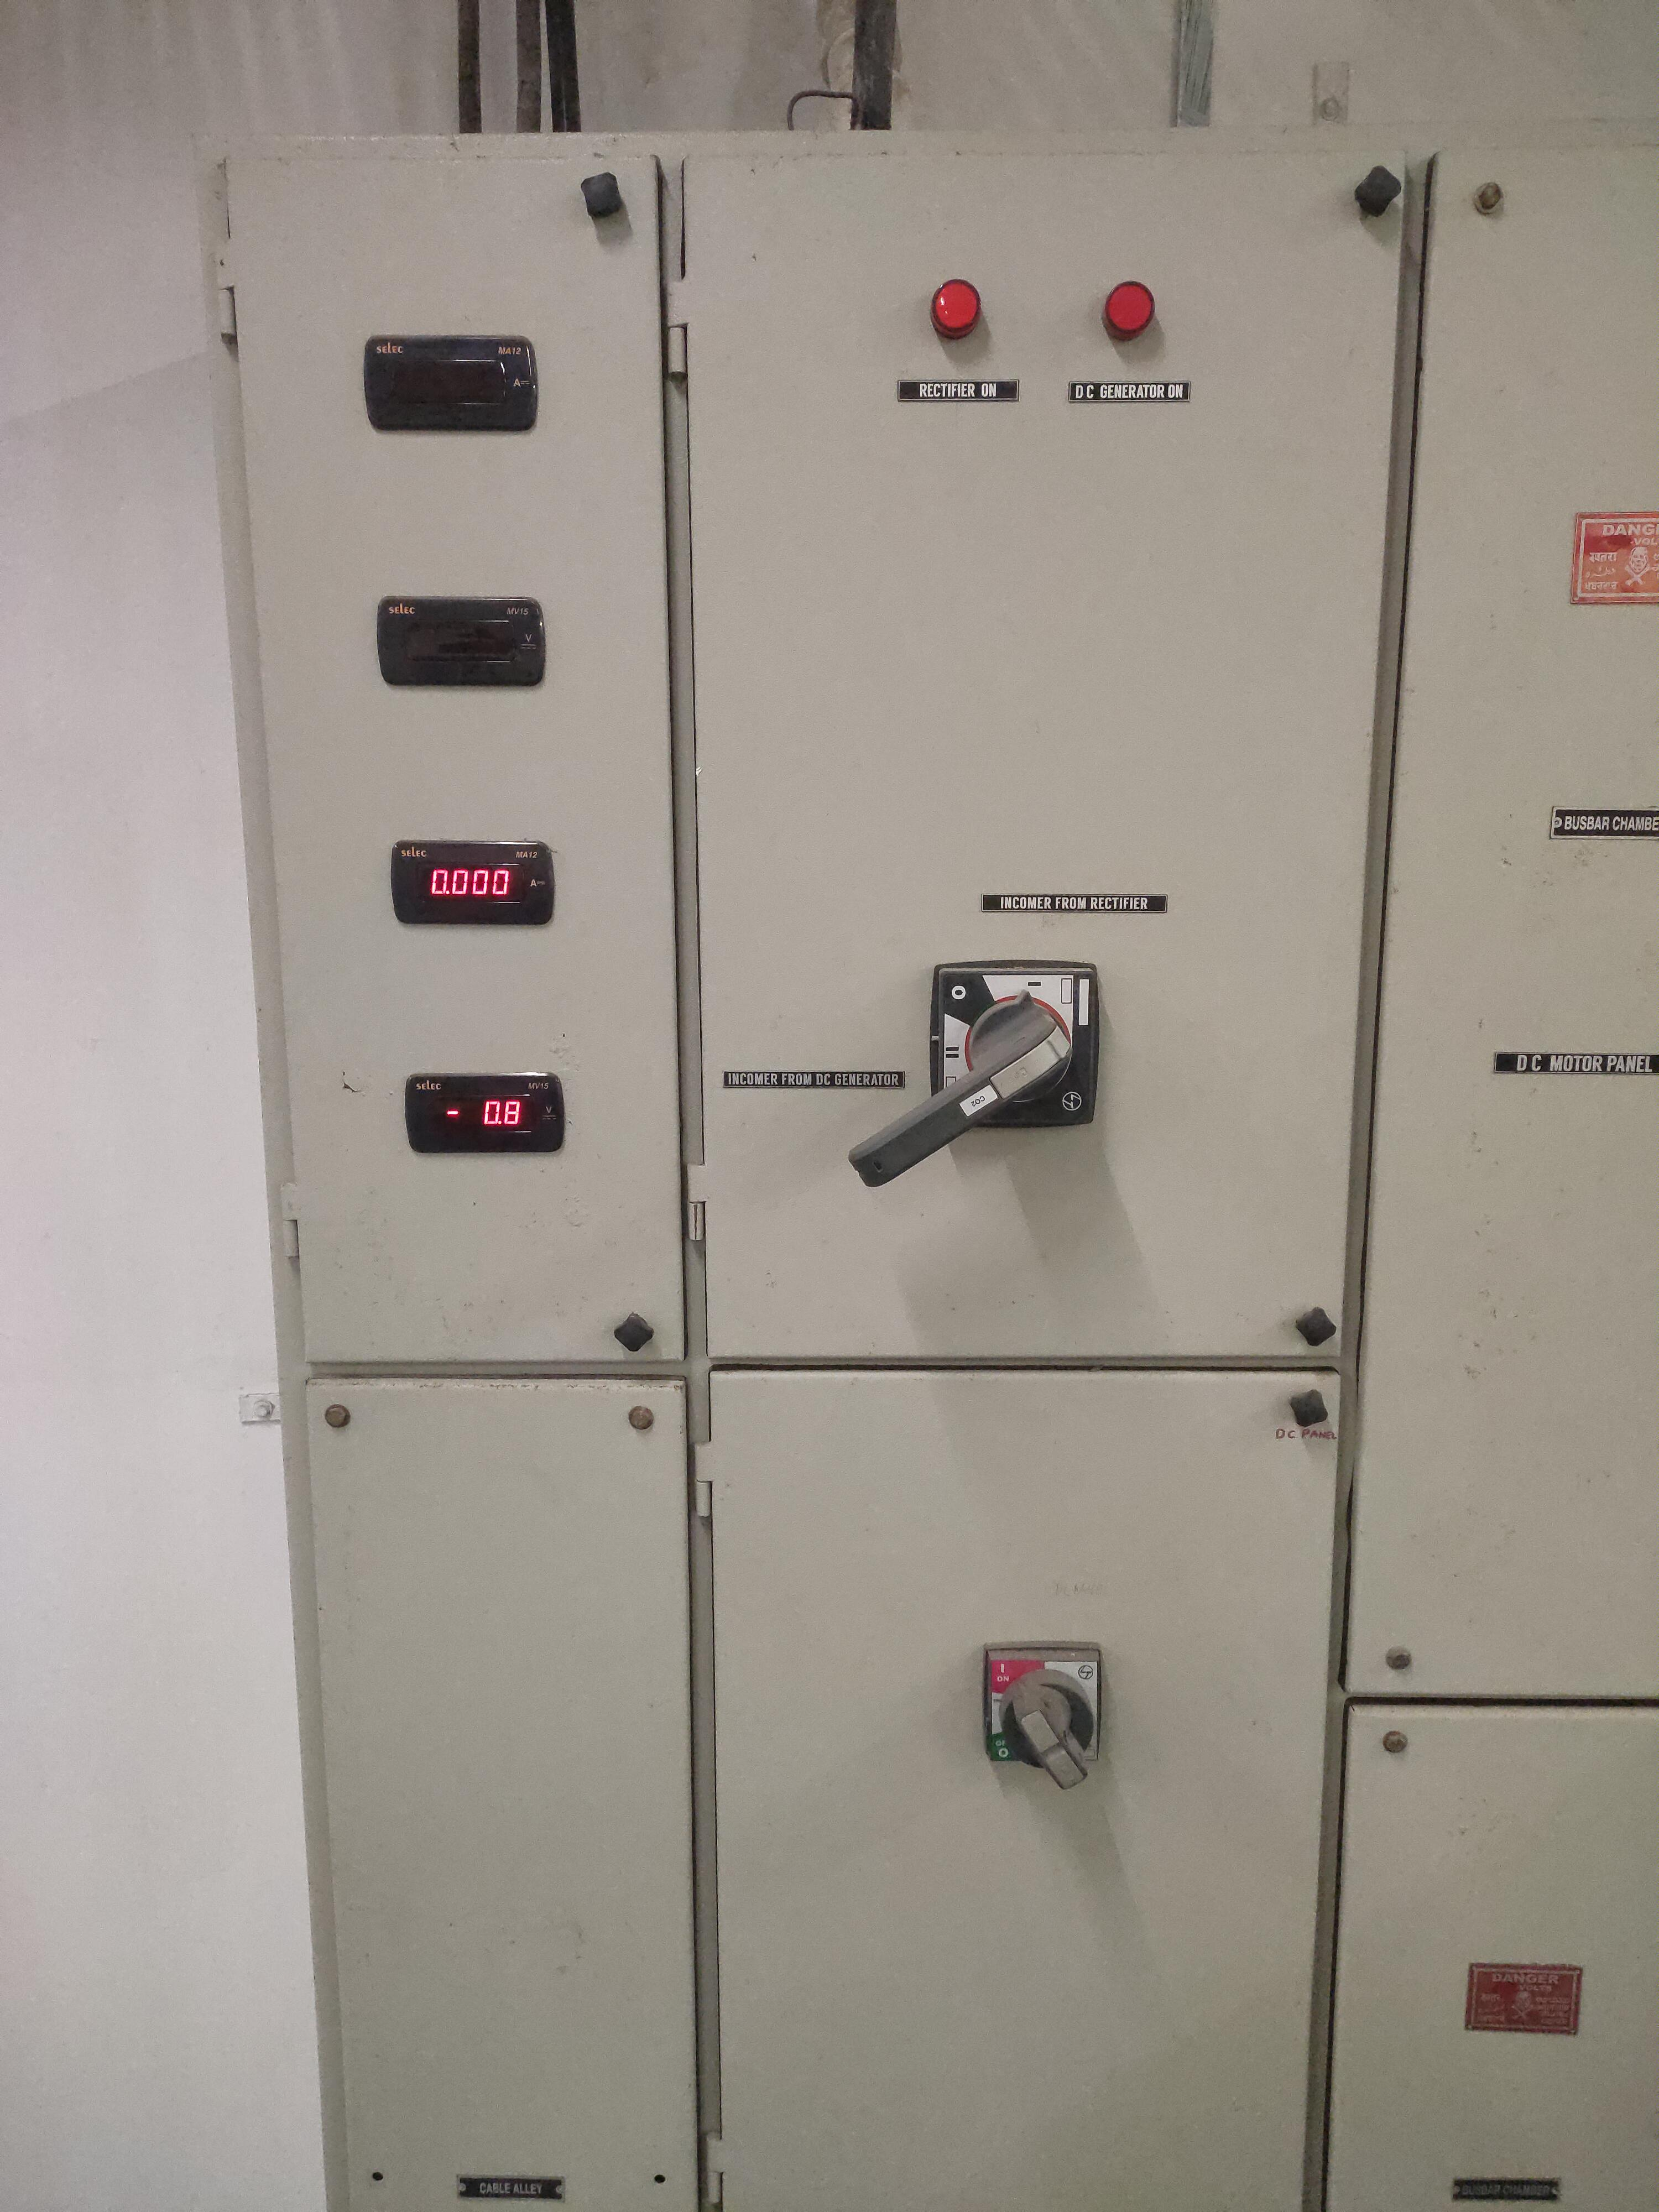Knob 1: (803, 925, 1143, 1238)
Knob 2: (953, 1625, 1134, 1820)
Light Indications: (856, 228, 1216, 449)
